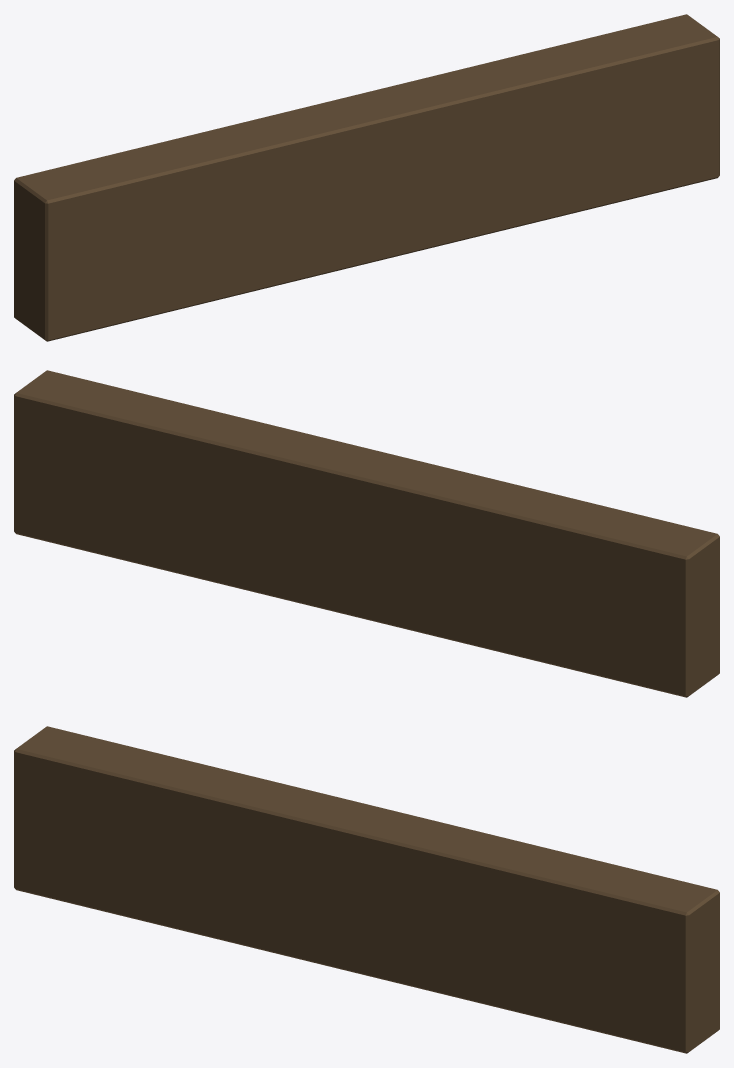
The model's file is door-lintel-lod1.fbx.
3 renders of one model, top to bottom at view 1: azimuth 30°, elevation 25°; view 2: azimuth 150°, elevation 25°; view 3: azimuth 330°, elevation 25°, orthographic.
Visible parts, largest first — view 1: Profiled header beam, Recessed lintel moulding.003, Decorative beam shoulder.003, Decorative beam shoulder.002; view 2: Profiled header beam, Recessed lintel moulding, Recessed lintel moulding.001, Decorative beam shoulder; view 3: Profiled header beam, Recessed lintel moulding.003, Recessed lintel moulding.002, Decorative beam shoulder.002, Decorative beam shoulder.003.
Part boxes in pixels (x1,y1,x2,y2): Profiled header beam: [14, 14, 719, 341]; Recessed lintel moulding.003: [50, 53, 716, 224]; Decorative beam shoulder.003: [672, 76, 688, 159]; Decorative beam shoulder.002: [79, 221, 94, 304]; Profiled header beam: [14, 370, 719, 697]; Recessed lintel moulding: [17, 511, 683, 683]; Recessed lintel moulding.001: [166, 446, 683, 580]; Decorative beam shoulder: [638, 577, 654, 660]; Profiled header beam: [14, 726, 719, 1053]; Recessed lintel moulding.003: [17, 764, 683, 936]; Recessed lintel moulding.002: [17, 867, 683, 1039]; Decorative beam shoulder.002: [45, 788, 61, 871]; Decorative beam shoulder.003: [639, 933, 654, 1016].
Size of the model in its own units: 280 by 56 by 24.
